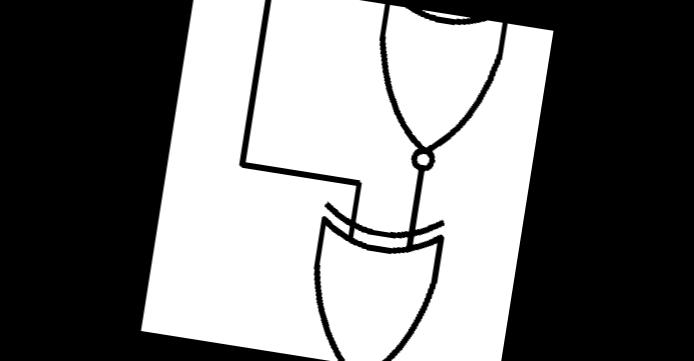xnor: (276, 193, 472, 361), (346, 2, 516, 188)
